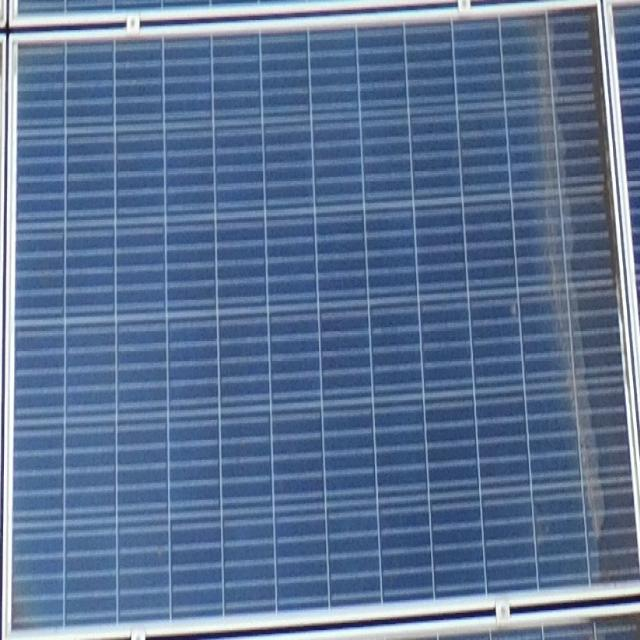Dust: (533, 9, 640, 600)
